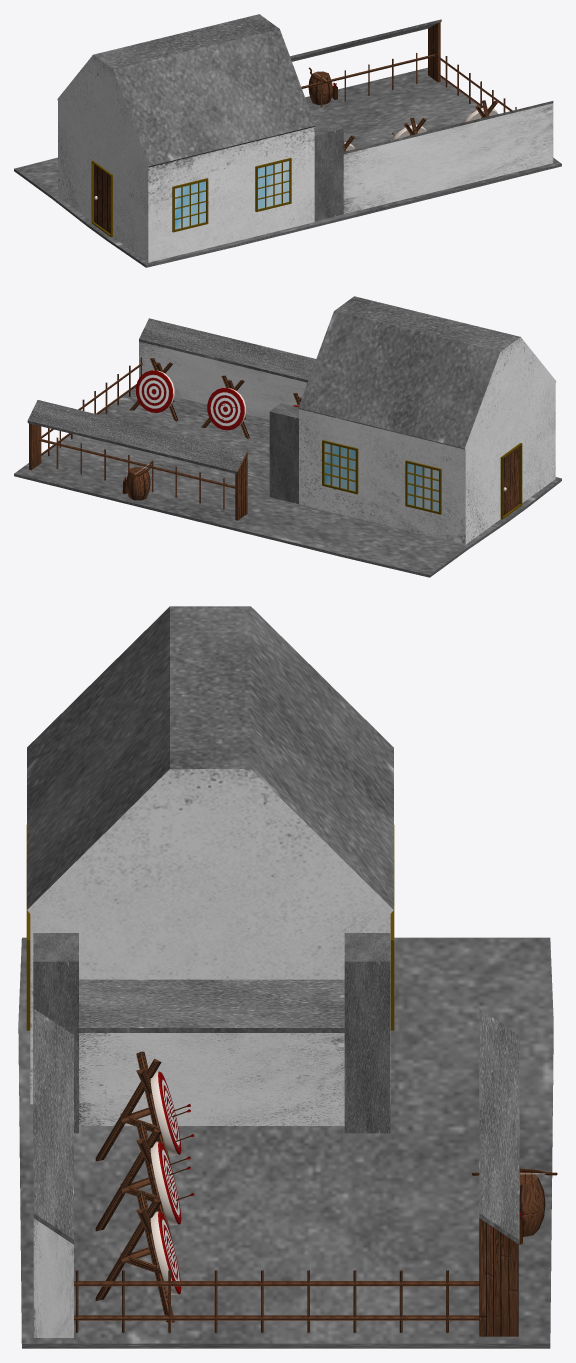
The picture shows the model from 3 angles, top to bottom: view 1: azimuth 30°, elevation 25°; view 2: azimuth 150°, elevation 25°; view 3: azimuth 270°, elevation 25°; orthographic projection. The views are drawn at different scales.
Parts seen in each view (by area): view 1: Building, Barrel, Bullseye2, Bullseye1; view 2: Building, Bullseye2, Bullseye1, Barrel; view 3: Building, Bullseye1, Bullseye2, Bullseye3, Barrel.
Part boxes in pixels (x1,y1,x2,y2): Building: (14,14,561,267); Barrel: (308,71,332,104); Bullseye2: (392,118,426,139); Bullseye1: (464,100,498,122); Building: (14,296,561,577); Bullseye2: (201,375,249,439); Bullseye1: (129,358,178,421); Barrel: (126,467,150,500); Building: (18,606,553,1348); Bullseye1: (95,1191,181,1322); Bullseye2: (95,1121,194,1240); Bullseye3: (95,1051,194,1169); Barrel: (519,1171,545,1236).
Size of the model in its own units: 1643 by 640 by 918.
12 materials, 12 textured.
